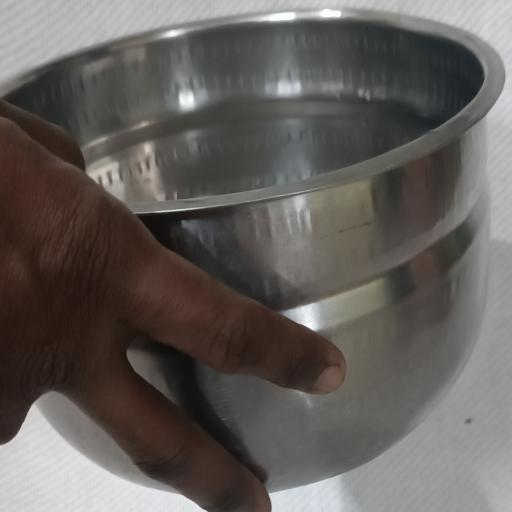vessel: (3, 9, 504, 490)
